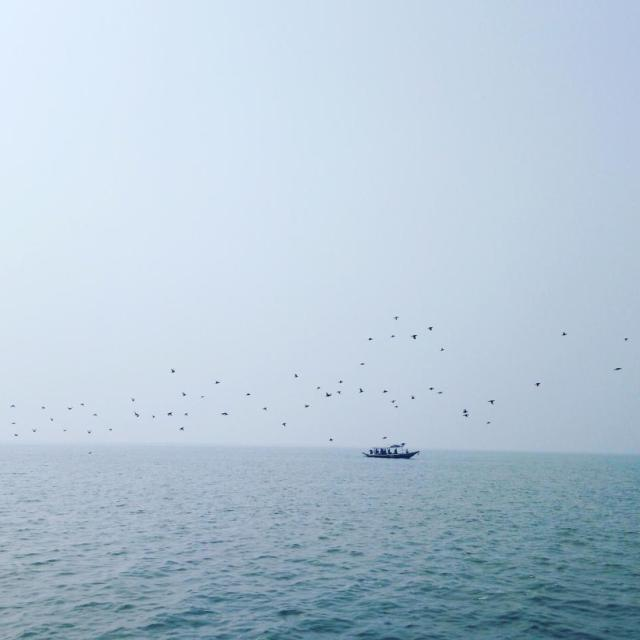fishing boat: (361, 432, 428, 464)
